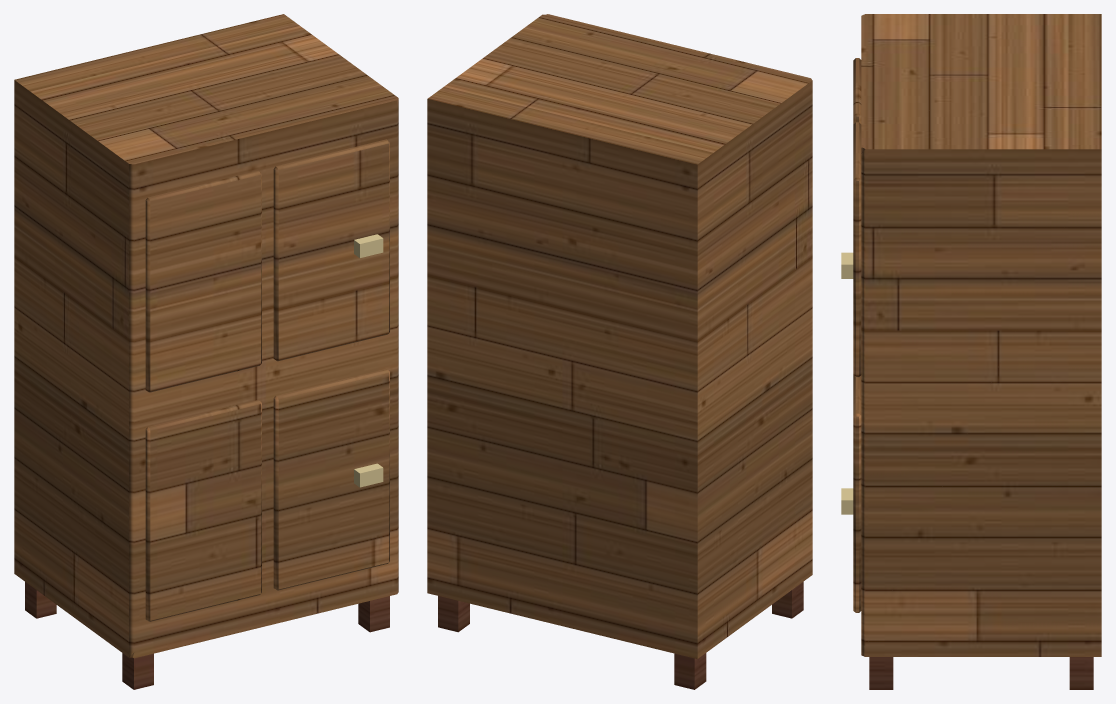
The model's file is icebox.glb.
3 views of the same model, side by side, from view 1: azimuth 30°, elevation 25°; view 2: azimuth 150°, elevation 25°; view 3: azimuth 270°, elevation 25° (orthographic). The views are drawn at different scales.
Parts seen in each view (by area): view 1: icebox_oak, icebox_dkwood, icebox_brass; view 2: icebox_oak, icebox_dkwood; view 3: icebox_oak, icebox_dkwood, icebox_brass.
Part boxes in pixels (bbox=[...]): icebox_oak: bbox=[14, 14, 398, 658]; icebox_dkwood: bbox=[25, 582, 389, 689]; icebox_brass: bbox=[354, 234, 383, 487]; icebox_oak: bbox=[427, 14, 812, 658]; icebox_dkwood: bbox=[438, 582, 803, 689]; icebox_oak: bbox=[853, 14, 1101, 656]; icebox_dkwood: bbox=[869, 657, 1093, 689]; icebox_brass: bbox=[841, 252, 853, 514].
Bounding box in the file's own units: 0.8 × 1.5 × 0.65.
3 materials, 2 textured.
